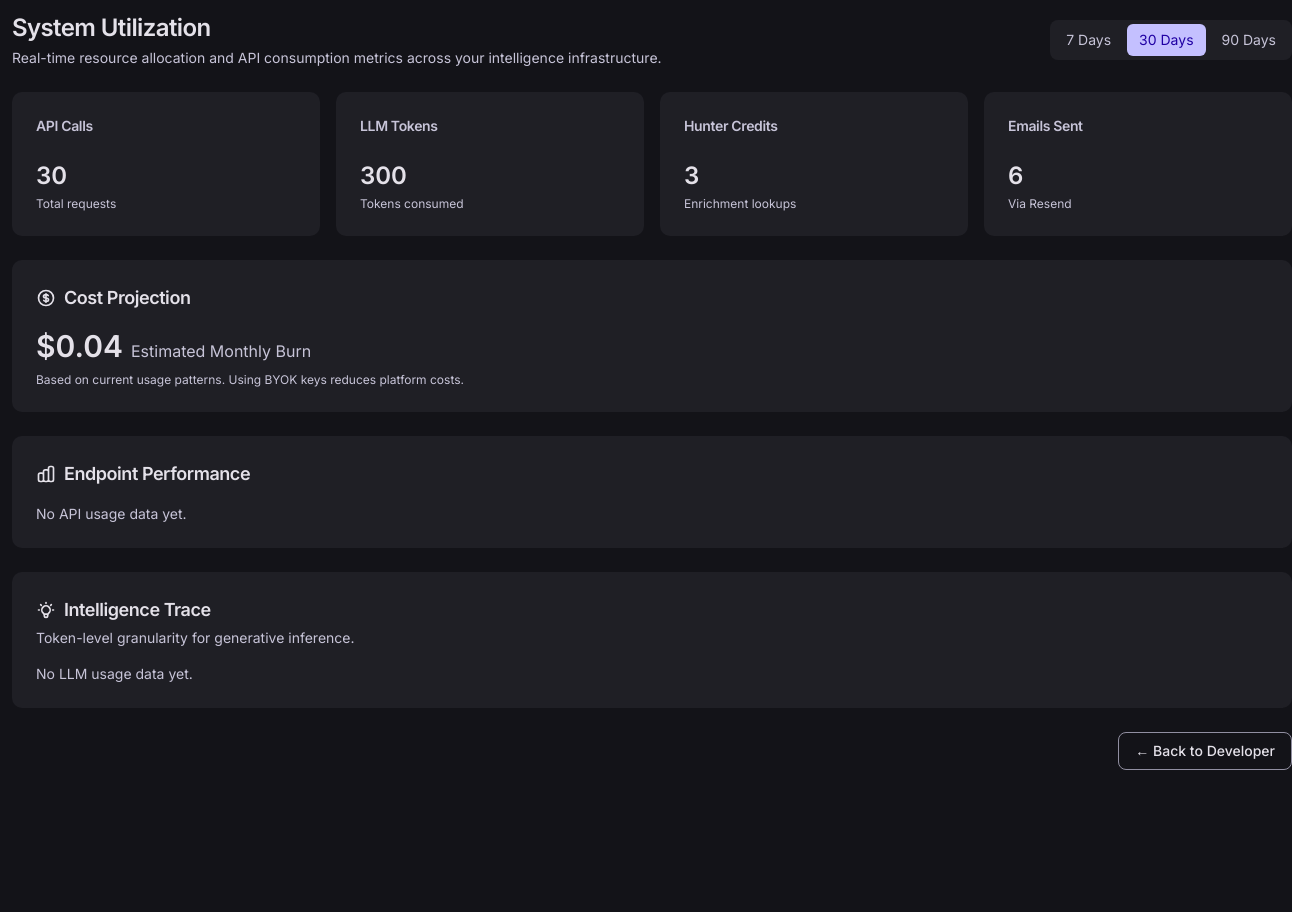
Test: UsageAnalyticsPage › switches time ranges and refetches usage data
Click the button "7 Days" at coordinates (1089, 40), box [1054,24,1123,56]
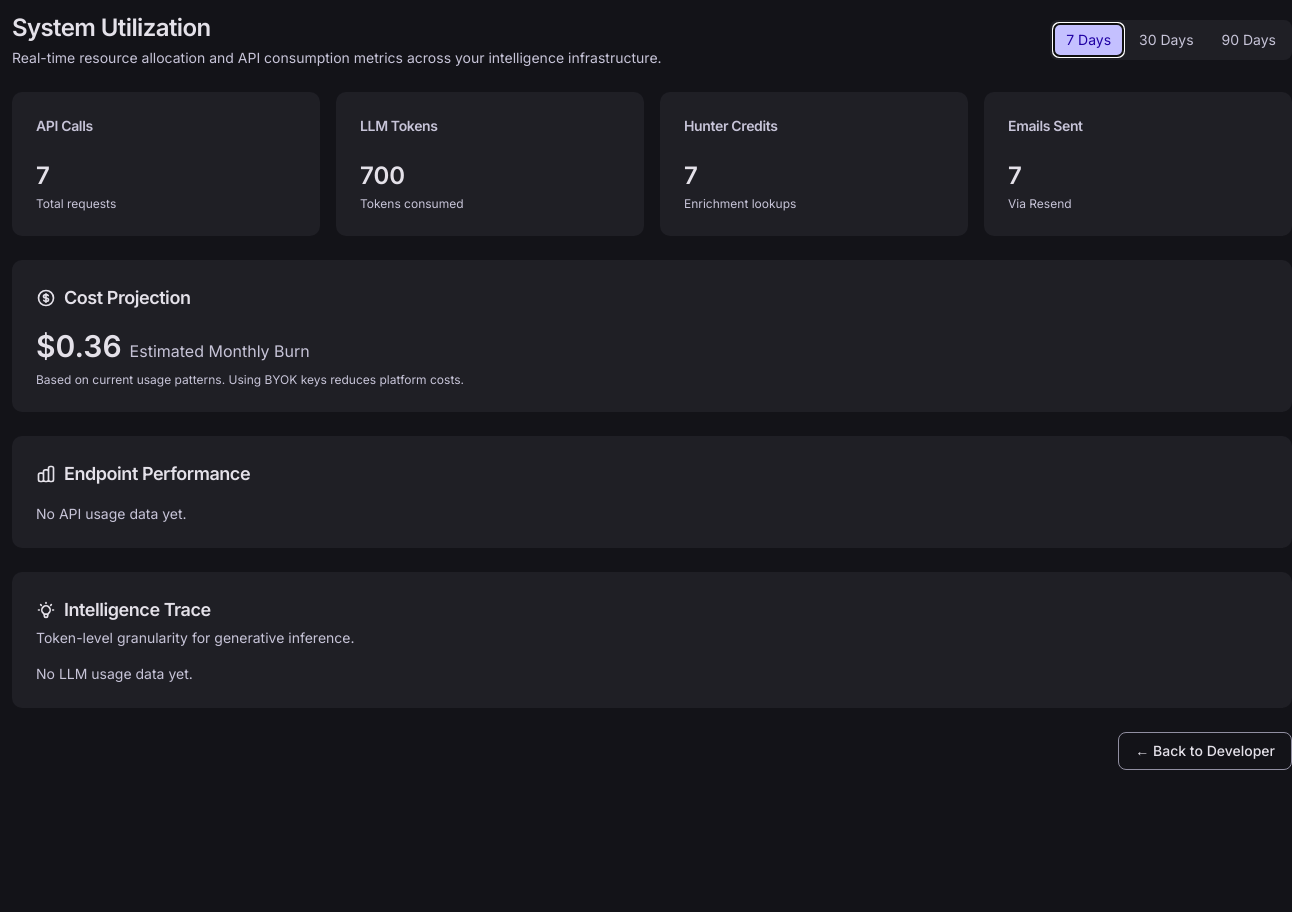
expect the text "700" is shown: met, box [360,161,405,190]
expect the text "$0.36" is shown: met, box [36,328,122,364]
